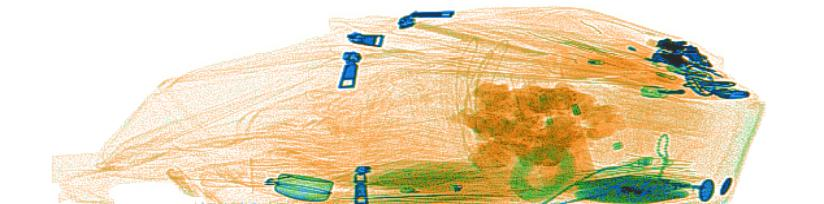lighter: (639, 83, 736, 102)
